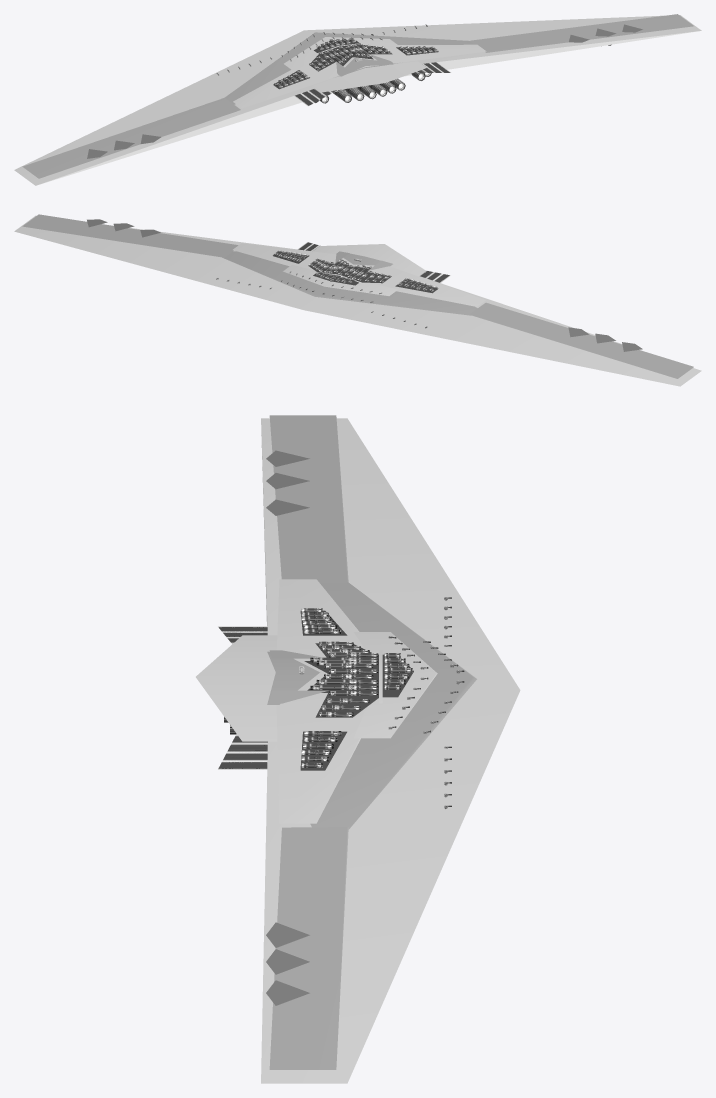
The model's file is sw_supremacy.glb.
3 views of the same model, one above another, from view 1: azimuth 30°, elevation 25°; view 2: azimuth 150°, elevation 25°; view 3: azimuth 270°, elevation 25° (orthographic). The views are drawn at different scales.
Parts seen in each view (by area): view 1: Object_2; view 2: Object_2; view 3: Object_2.
Part boxes in pixels (x1,y1,x2,y2): Object_2: (14,14,701,185); Object_2: (14,214,701,386); Object_2: (196,415,520,1083).
Size of the model in its own units: 1.98 by 0.1272 by 0.4183.
1 material, 1 textured.
